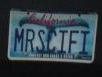C: (47, 29, 57, 52)
F: (68, 30, 79, 53)
I: (80, 30, 89, 55), (58, 29, 66, 53)
M: (14, 28, 24, 52)
R: (26, 29, 35, 53)
S: (36, 29, 45, 52)
